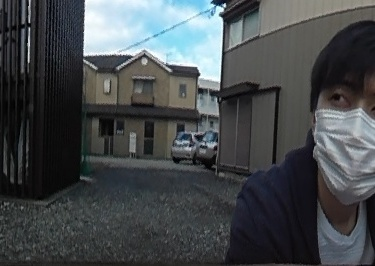person: (243, 17, 375, 266)
